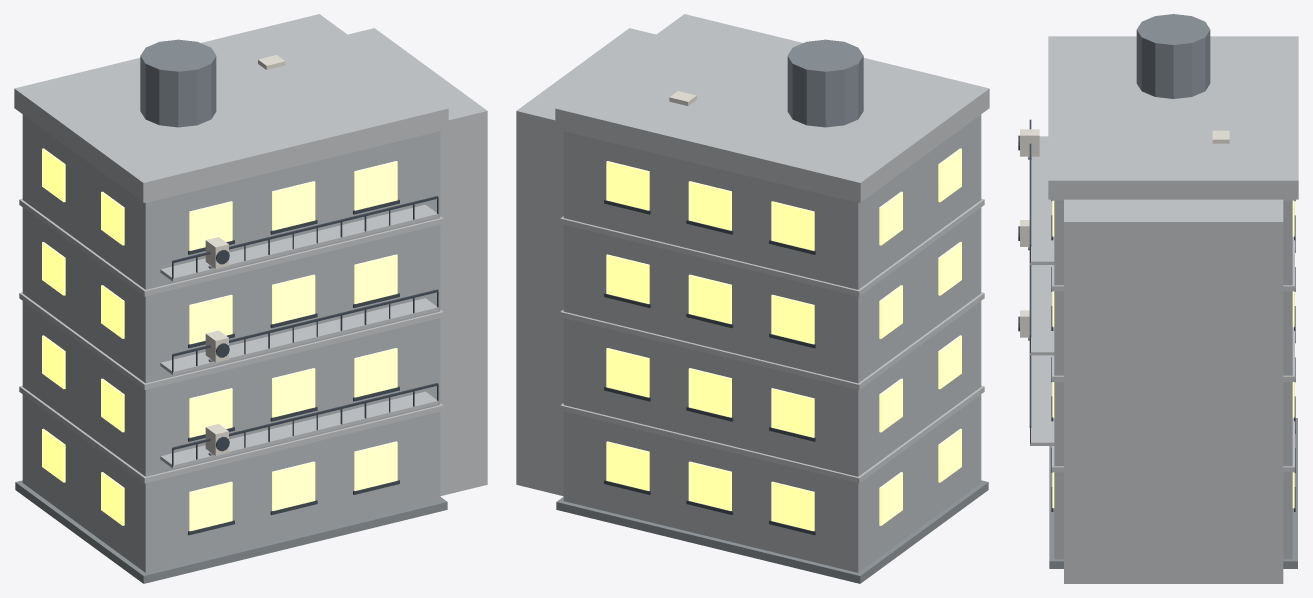
The model's file is res_danchi_4f.glb.
3 renders of one model, left to right at view 1: azimuth 30°, elevation 25°; view 2: azimuth 150°, elevation 25°; view 3: azimuth 270°, elevation 25°, orthographic. The views are drawn at different scales.
Visible parts, largest first — view 1: body.050, roof_parapet.002, stair_core.002, water_tank.018, base.050, balcony.004, balcony.006, balcony.005, slab.006, slab.007, slab.008, win.018 (+22 smaller); view 2: body.050, roof_parapet.002, stair_core.002, water_tank.018, base.050, slab.006, slab.007, slab.008, win_back.080, win_back.083, win_back.086, win_back.089 (+16 smaller); view 3: stair_core.002, roof_parapet.002, body.050, water_tank.018, balcony.006, balcony.005, balcony.004, base.050, ac_body.064, slab.006, slab.008, slab.007.
Boxes of the visible parts, left/top/right/bottom form: body.050: left=22, top=114, right=440, bottom=572; roof_parapet.002: left=14, top=14, right=448, bottom=202; stair_core.002: left=348, top=28, right=487, bottom=496; water_tank.018: left=140, top=39, right=216, bottom=127; base.050: left=15, top=480, right=447, bottom=583; balcony.004: left=160, top=391, right=438, bottom=468; balcony.006: left=160, top=204, right=438, bottom=281; balcony.005: left=160, top=298, right=438, bottom=375; slab.006: left=19, top=385, right=443, bottom=483; slab.007: left=19, top=292, right=443, bottom=389; slab.008: left=19, top=198, right=443, bottom=296; win.018: left=189, top=481, right=232, bottom=531; body.050: left=563, top=114, right=981, bottom=572; roof_parapet.002: left=555, top=14, right=989, bottom=202; stair_core.002: left=516, top=28, right=655, bottom=496; water_tank.018: left=787, top=39, right=863, bottom=127; base.050: left=556, top=480, right=988, bottom=583; slab.006: left=560, top=385, right=984, bottom=483; slab.007: left=560, top=292, right=984, bottom=389; slab.008: left=560, top=198, right=984, bottom=296; win_back.080: left=771, top=481, right=814, bottom=531; win_back.083: left=771, top=388, right=814, bottom=437; win_back.086: left=606, top=348, right=649, bottom=397; win_back.089: left=688, top=274, right=731, bottom=323; stair_core.002: left=1064, top=199, right=1283, bottom=583; roof_parapet.002: left=1048, top=36, right=1298, bottom=199; body.050: left=1054, top=200, right=1292, bottom=559; water_tank.018: left=1136, top=14, right=1210, bottom=98; balcony.006: left=1030, top=136, right=1054, bottom=264; balcony.005: left=1030, top=265, right=1054, bottom=355; balcony.004: left=1030, top=355, right=1054, bottom=445; base.050: left=1049, top=418, right=1297, bottom=568; ac_body.064: left=1020, top=129, right=1039, bottom=156; slab.006: left=1052, top=382, right=1294, bottom=472; slab.008: left=1052, top=201, right=1294, bottom=291; slab.007: left=1052, top=292, right=1294, bottom=381.
Size of the model in its own units: 11.24 by 13.94 by 8.
